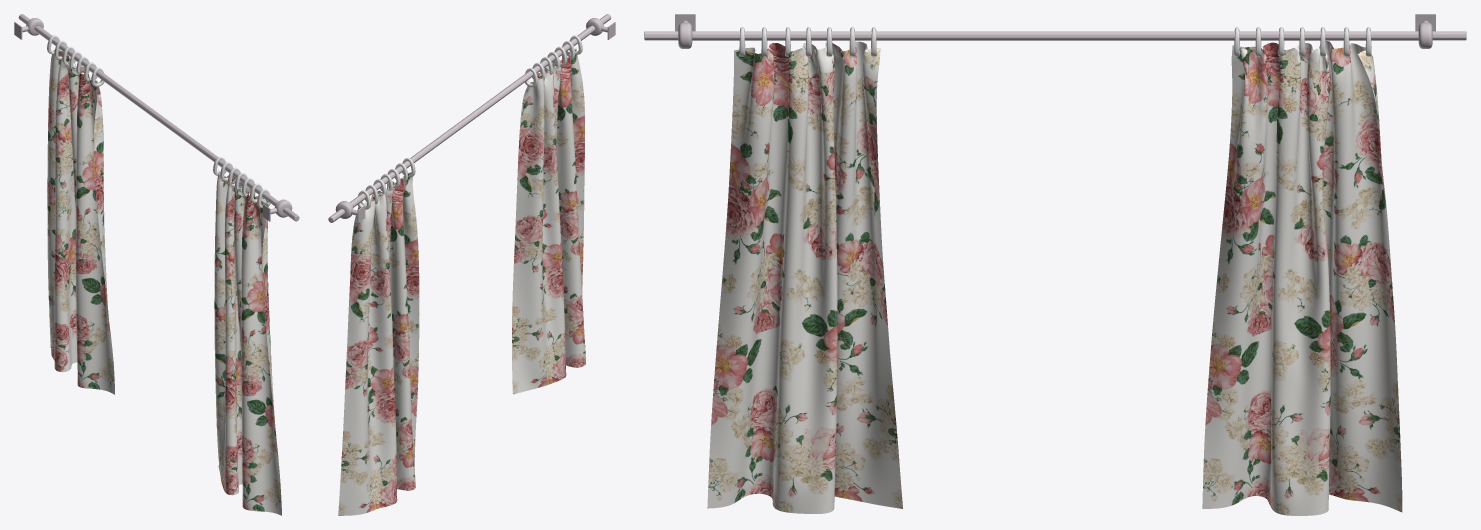
The model's file is Curtain_01.fbx.
3 renders of one model, left to right at view 1: azimuth 30°, elevation 25°; view 2: azimuth 150°, elevation 25°; view 3: azimuth 270°, elevation 25°, orthographic. The views are drawn at different scales.
Parts seen in each view (by area): view 1: curtain2_OBJ:pPlane5, curtain_obj:pPlane5, pCylinder1 (×2); view 2: curtain2_OBJ:pPlane5, curtain_obj:pPlane5, pCylinder1 (×2); view 3: curtain2_OBJ:pPlane5, curtain_obj:pPlane5, pCylinder1 (×2).
Boxes of the visible parts, x1=… form: curtain2_OBJ:pPlane5: x1=47, y1=50, x2=114, y2=394; curtain_obj:pPlane5: x1=214, y1=170, x2=281, y2=515; pCylinder1 (×2): x1=18, y1=14, x2=299, y2=221; curtain2_OBJ:pPlane5: x1=338, y1=172, x2=419, y2=515; curtain_obj:pPlane5: x1=512, y1=47, x2=585, y2=394; pCylinder1 (×2): x1=328, y1=14, x2=611, y2=222; curtain2_OBJ:pPlane5: x1=1202, y1=41, x2=1402, y2=515; curtain_obj:pPlane5: x1=707, y1=41, x2=902, y2=513; pCylinder1 (×2): x1=644, y1=31, x2=1466, y2=40.
Size of the model in its own units: 0.2292 by 2.14 by 3.31.
Materials: 3 (1 with a texture image).
